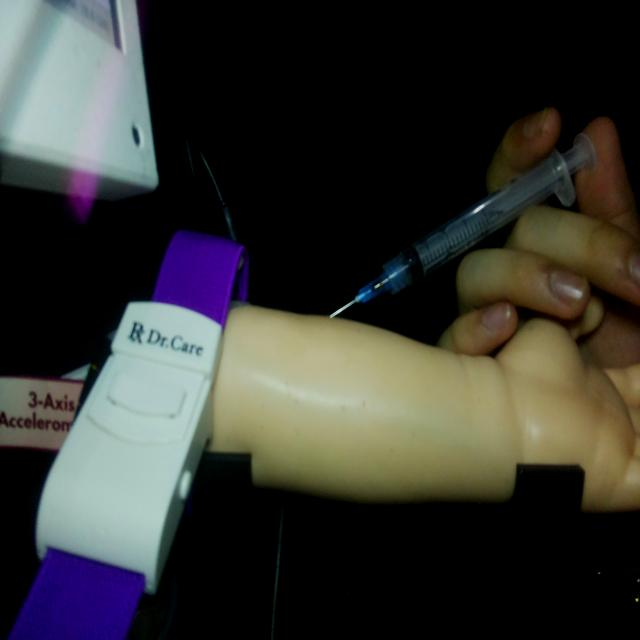25 degrees: (327, 129, 598, 321)
